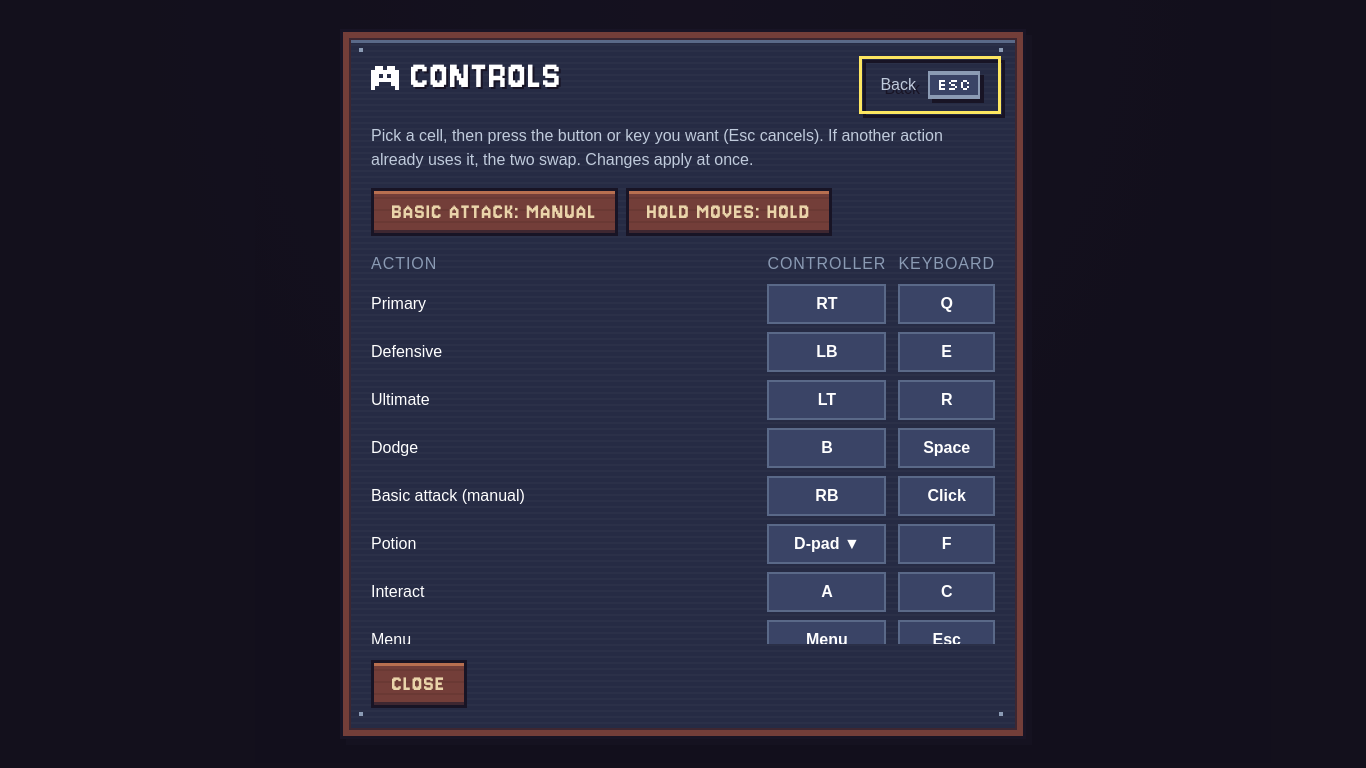
Test: ControlsPanel › rebinds a key by pressing it, swapping with the action that had it
Step 1. Click the button with test id "bind-key-dodge" → (947, 448), box [898,428,995,468]
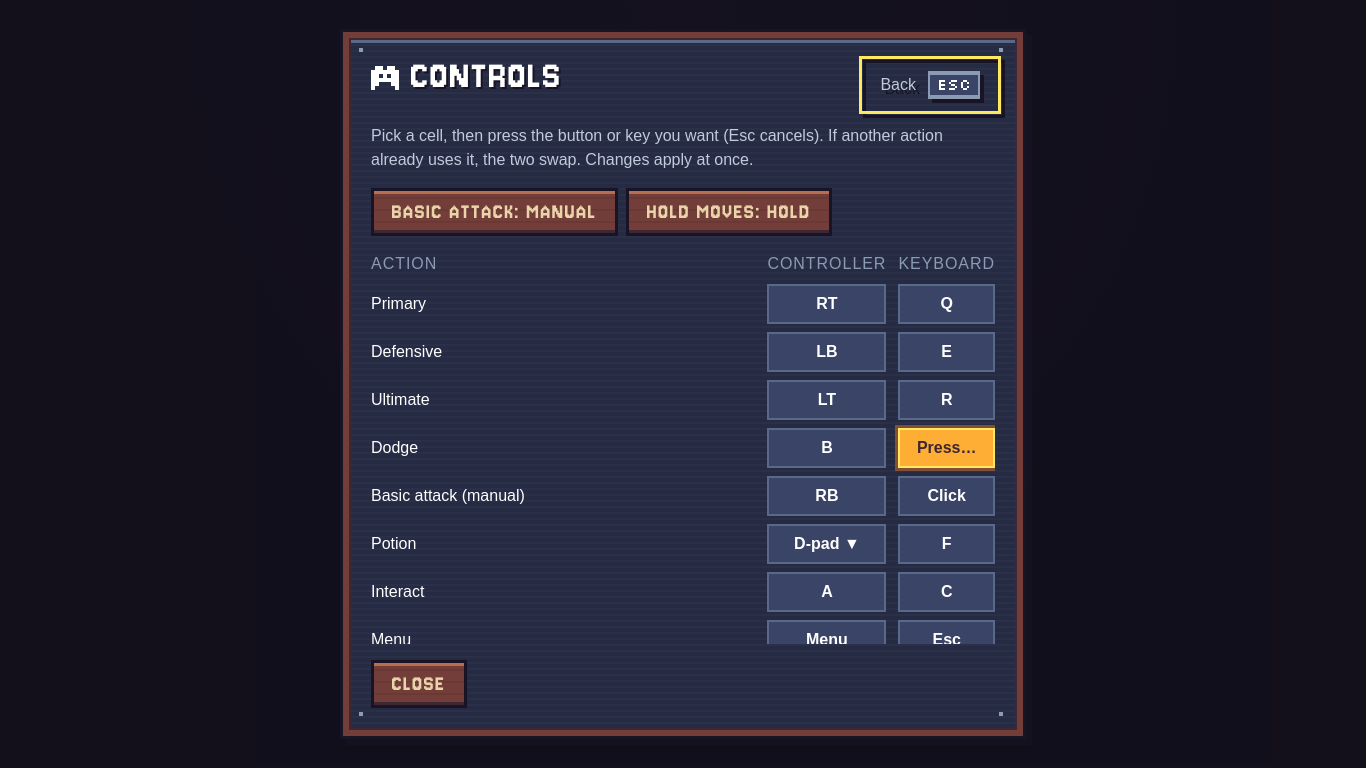
Expected: the button with test id "bind-key-dodge" shows "Press", [898,428,995,468]
Step 2. Press KeyW
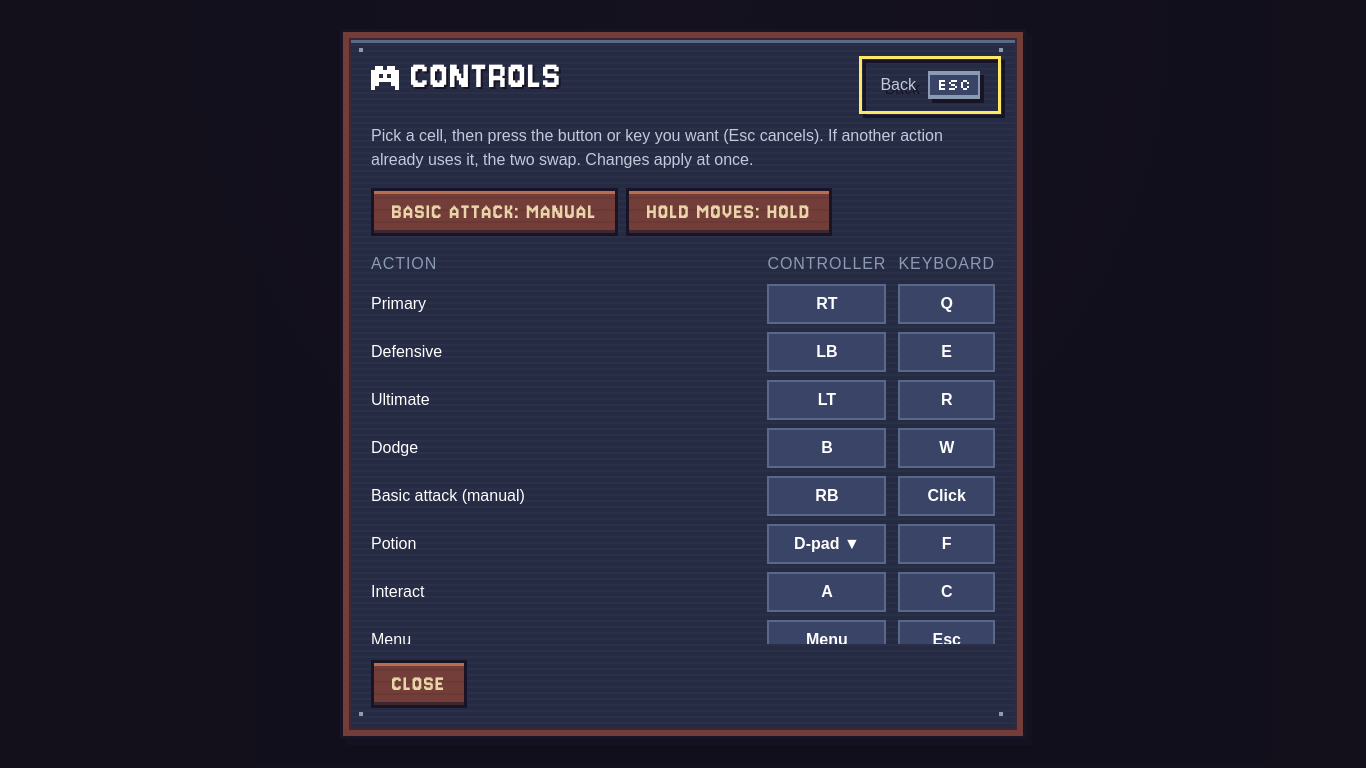
Expected: the button with test id "bind-key-dodge" reads "W", [898,428,995,468]
